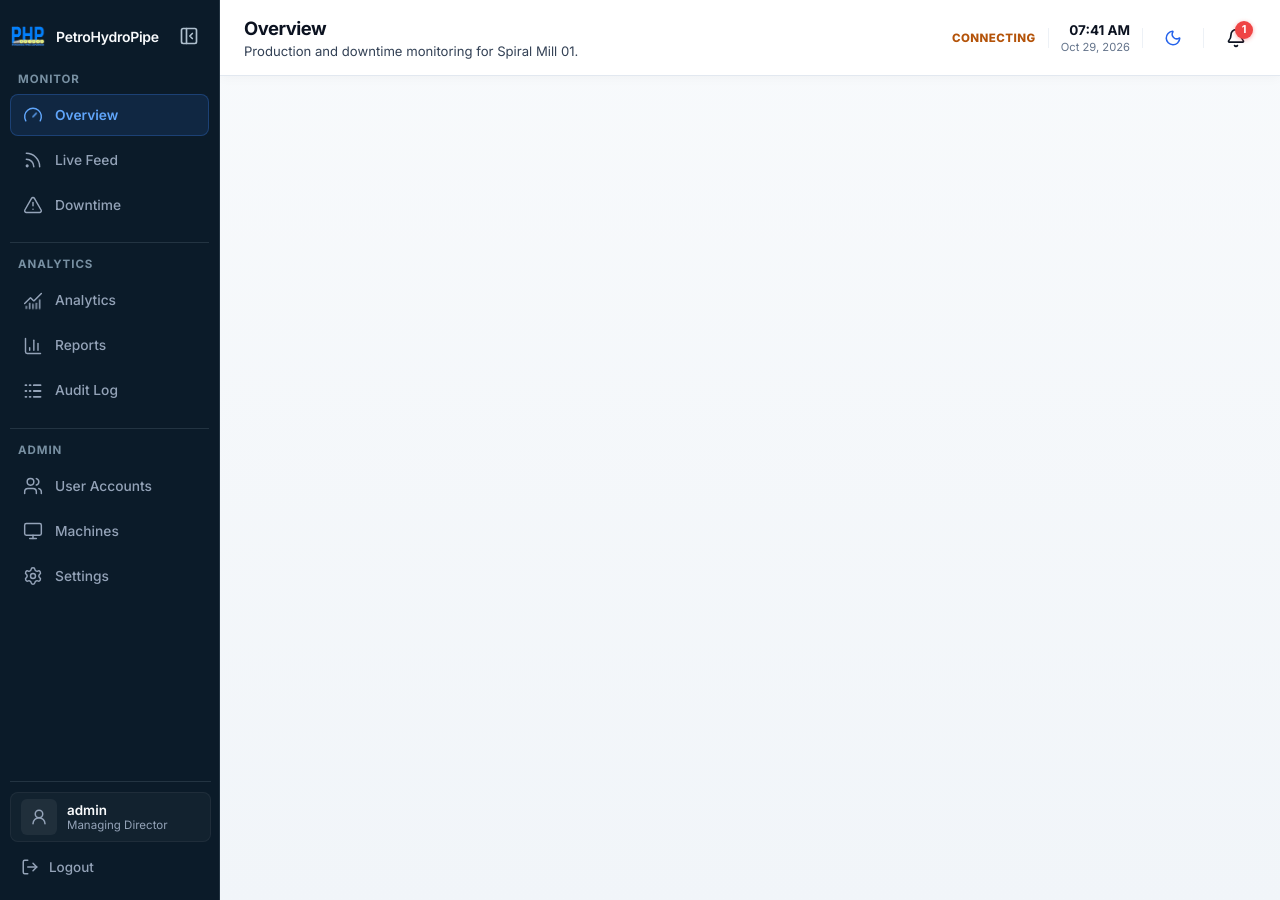
Test: AdminDashboard alerts › repairs the snapshot-to-first-stream-open missed window without another SSE delta
The image size is (1280, 900).
Step 1. Click the button named "open alerts, 1 active" → (1236, 38), box [1216,18,1256,58]
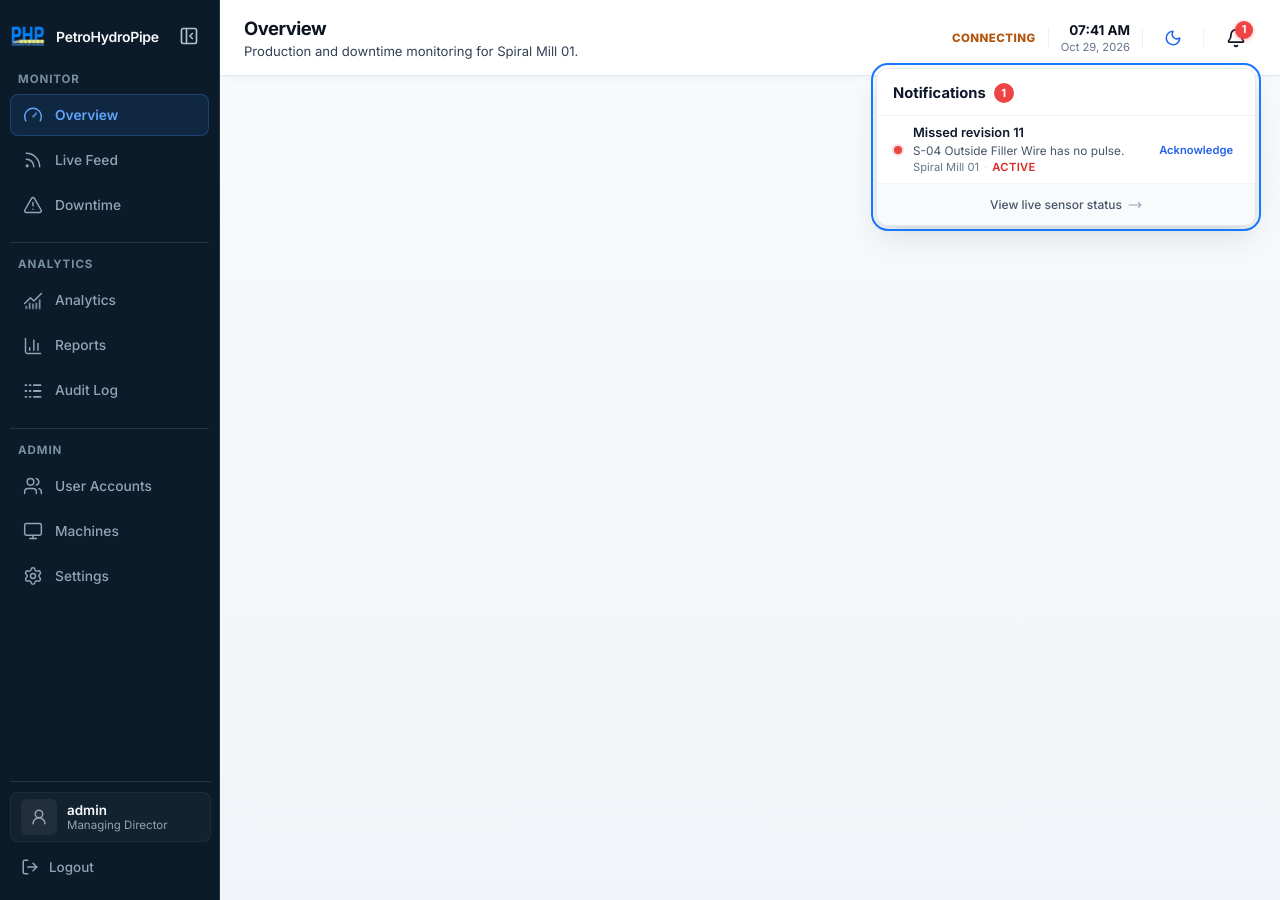
Result: the text "Missed revision 11" is shown at [913,124,1024,141]
